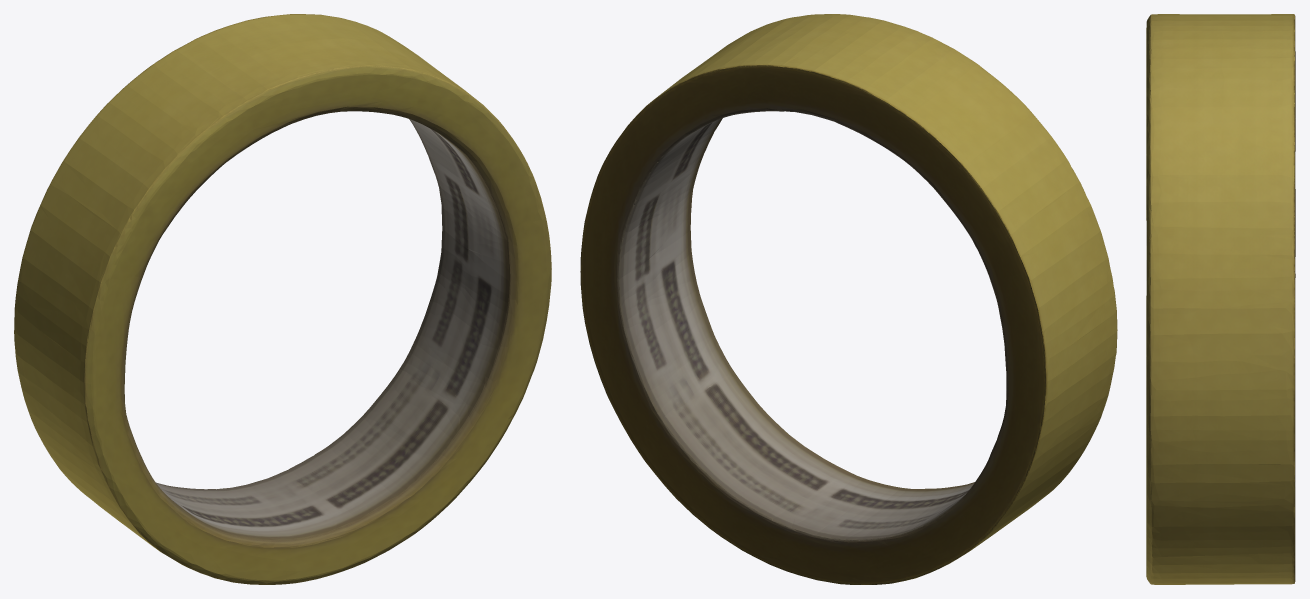
File: yellow_tape_visual_0.obj
3 views of the same model, side by side, from view 1: azimuth 30°, elevation 25°; view 2: azimuth 150°, elevation 25°; view 3: azimuth 270°, elevation 25° (orthographic). The views are drawn at different scales.
Bounding box in the file's own units: 0.0939 × 0.0975 × 0.0254.
Materials: 1 (1 with a texture image).
